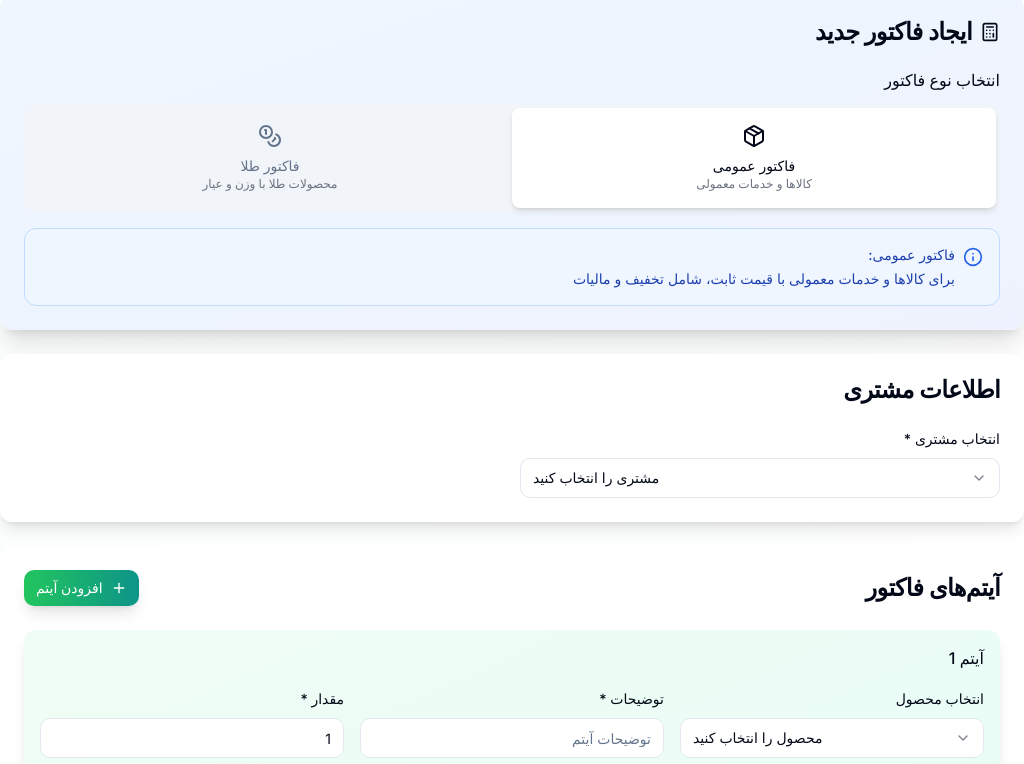
InvoiceForm › Real-time Calculations › should calculate item total for general invoice
The image size is (1024, 764).
Replace the text in the number field labelled "مقدار *" with "2": x=192, y=738 [40,718,344,758]
(page scrolled)
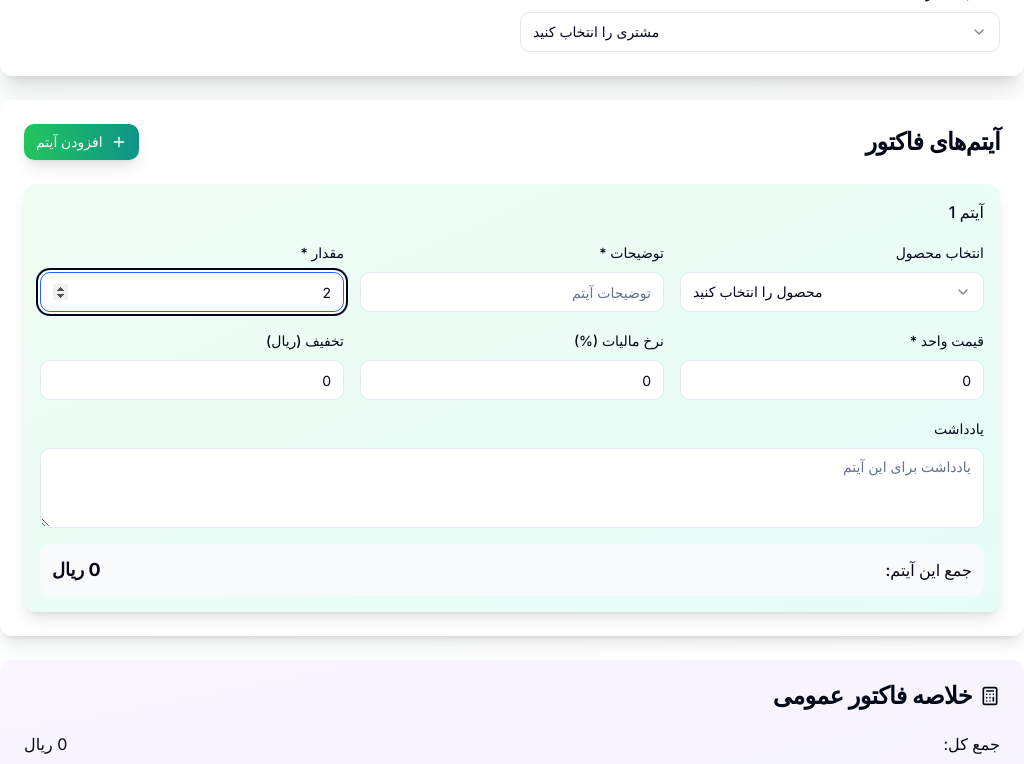
Replace the text in the number field labelled "قیمت واحد *" with "1000000": x=832, y=380 [680,360,984,400]
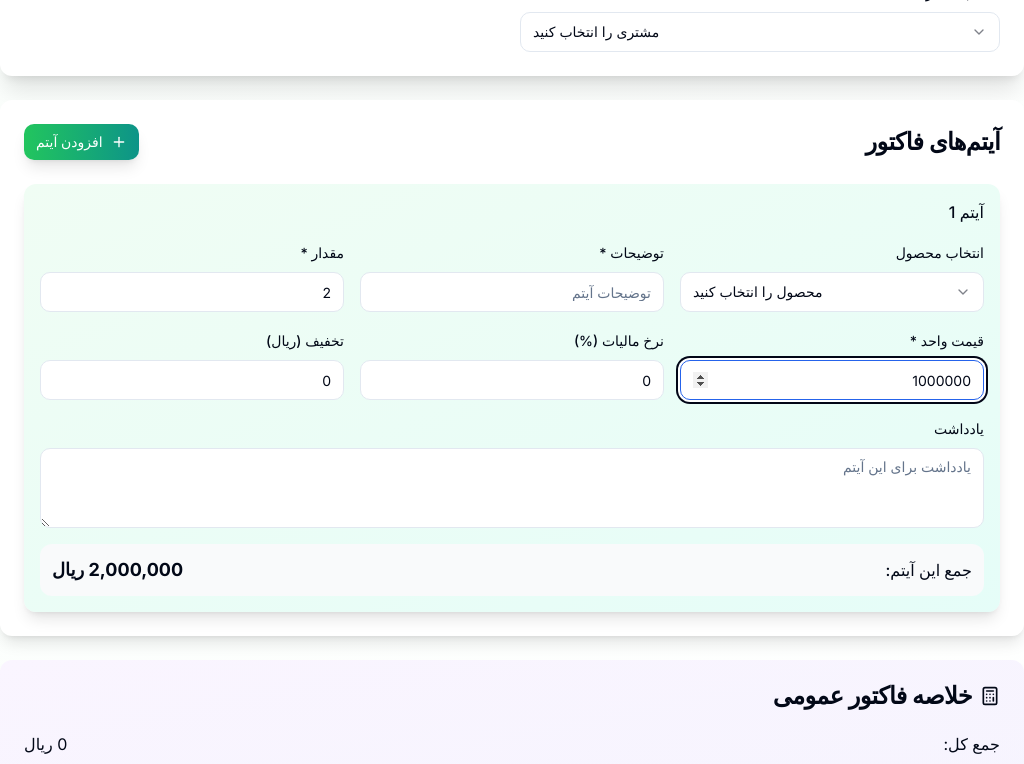
Check: the text "2,000,000 ریال" is shown, box [52,556,183,584]
